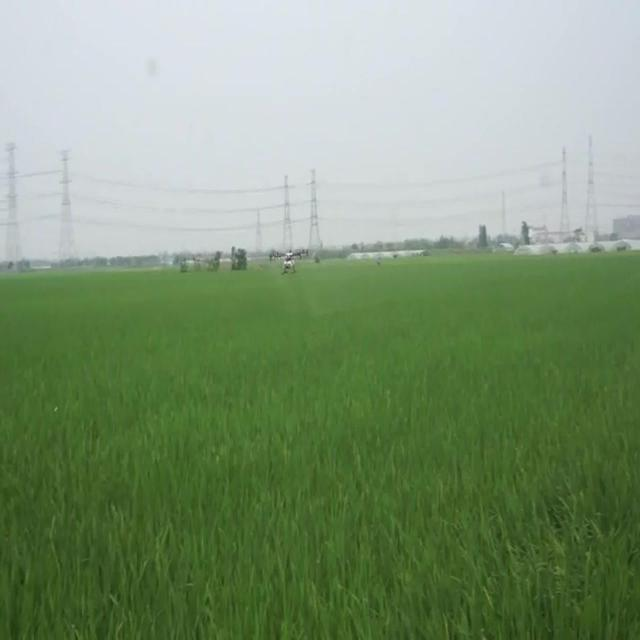UAV: (269, 249, 309, 275)
